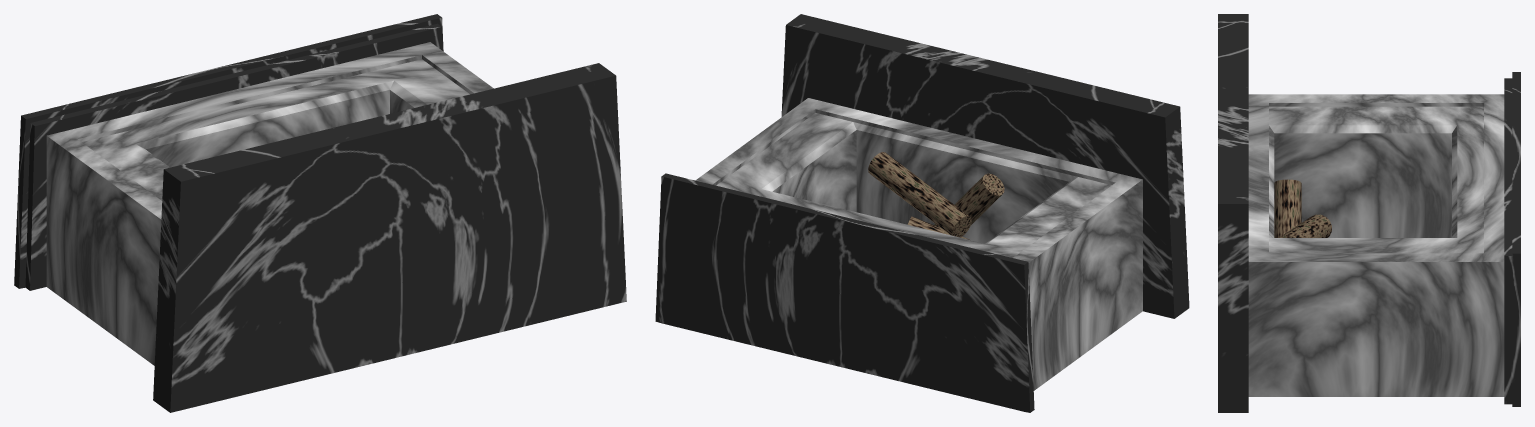
The model's file is Chimenea.fbx.
3 views of the same model, side by side, from view 1: azimuth 30°, elevation 25°; view 2: azimuth 150°, elevation 25°; view 3: azimuth 270°, elevation 25° (orthographic). The views are drawn at different scales.
Visible parts, largest first — view 1: Chimenea.001; view 2: Chimenea.001, ChimeneaTroncos; view 3: Chimenea.001, ChimeneaTroncos.
Boxes of the visible parts, x1,y1,x2,y2 form: Chimenea.001: [14, 14, 626, 412]; Chimenea.001: [655, 14, 1189, 412]; ChimeneaTroncos: [868, 152, 1004, 239]; Chimenea.001: [1218, 14, 1520, 412]; ChimeneaTroncos: [1274, 179, 1331, 237].
Bounding box in the file's own units: 203 × 97.1 × 130.
